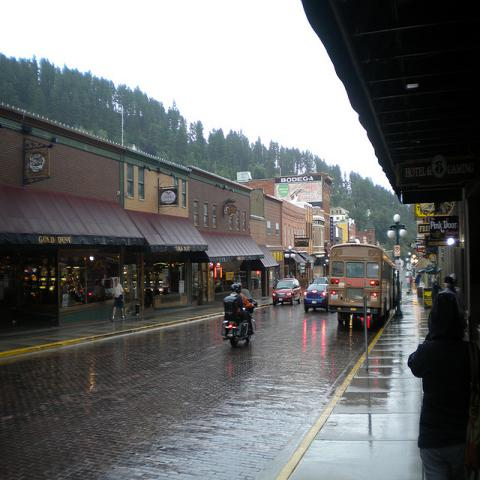bus: (329, 245, 403, 321)
car: (273, 278, 303, 306), (303, 283, 329, 313), (313, 277, 329, 285)
motorcycle: (220, 298, 258, 348)
